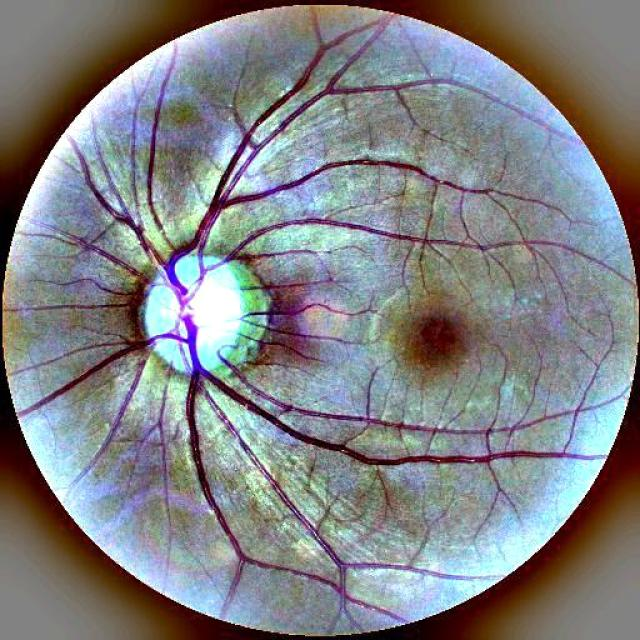Macula: (389, 297, 493, 387)
Nerves: (158, 33, 466, 348), (181, 338, 446, 620)
Optic Disk: (127, 242, 280, 397)
